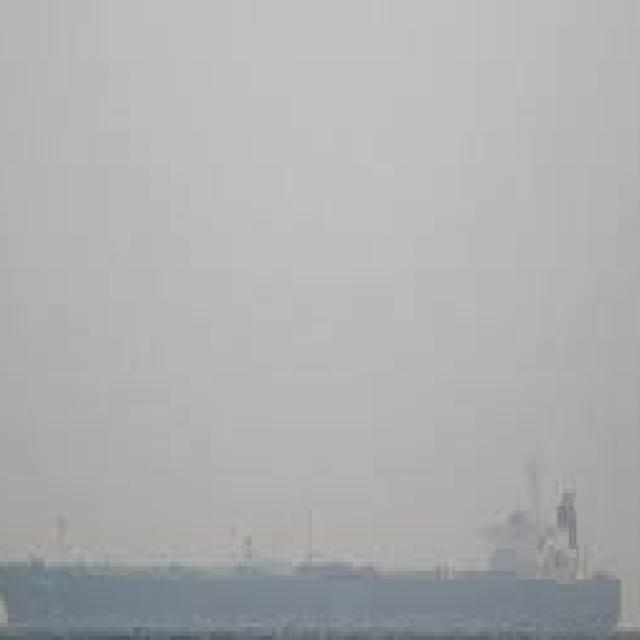cargoship: (0, 458, 622, 636)
